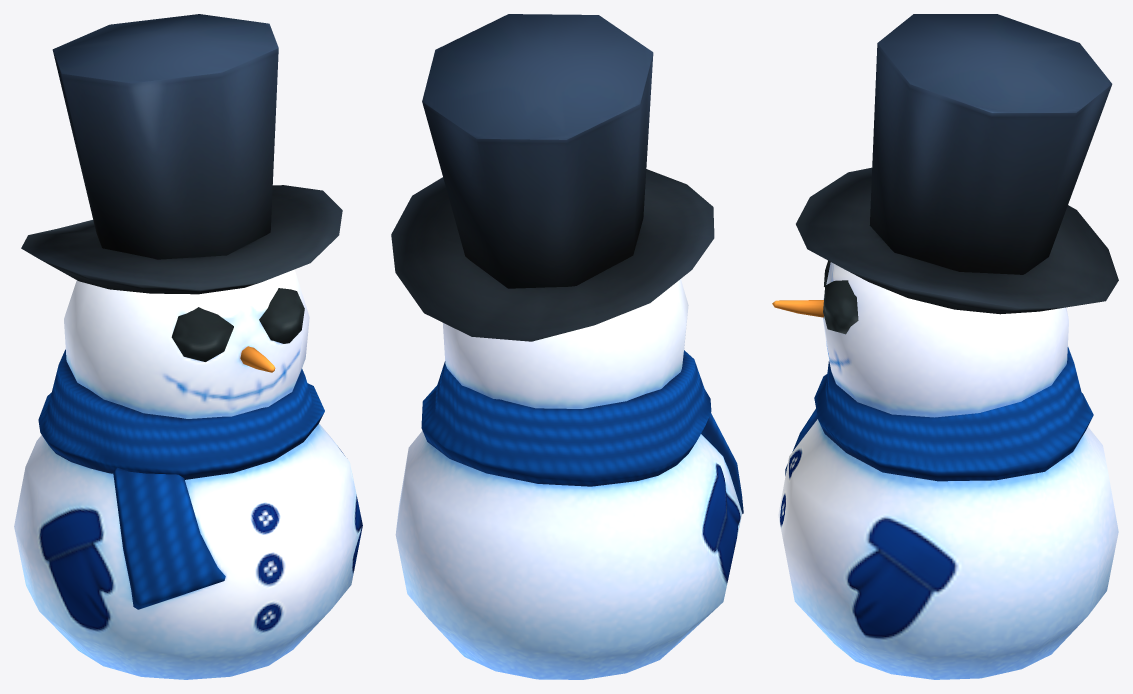
File: obj_frog01.gltf
3 views of the same model, side by side, from view 1: azimuth 30°, elevation 25°; view 2: azimuth 150°, elevation 25°; view 3: azimuth 270°, elevation 25° (orthographic).
Visible parts, largest first — view 1: obj_frog01; view 2: obj_frog01; view 3: obj_frog01.
Part boxes in pixels (bbox=[...]): obj_frog01: bbox=[14, 14, 362, 679]; obj_frog01: bbox=[391, 14, 743, 679]; obj_frog01: bbox=[772, 14, 1118, 679].
Size of what is drawn, in the model's own units: 0.7229 by 1.41 by 0.7318.
1 material, 1 textured.
